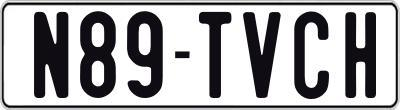8: (79, 10, 117, 101)
9: (124, 8, 163, 95)
C: (291, 12, 331, 104)
H: (342, 9, 378, 99)
N: (34, 9, 73, 101)
T: (199, 12, 233, 100)
V: (243, 10, 282, 97)
